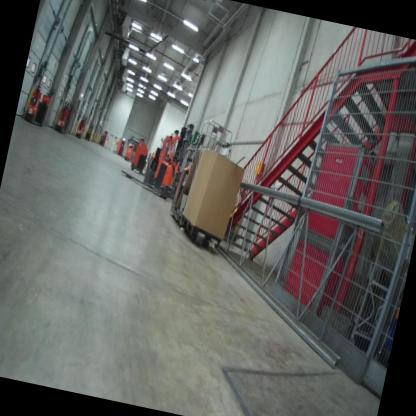forklift: (116, 108, 199, 204), (136, 116, 189, 193)
pallet_truck: (162, 144, 244, 254), (22, 78, 61, 136), (126, 132, 155, 180), (50, 93, 76, 134), (70, 113, 90, 143), (120, 138, 137, 167)
